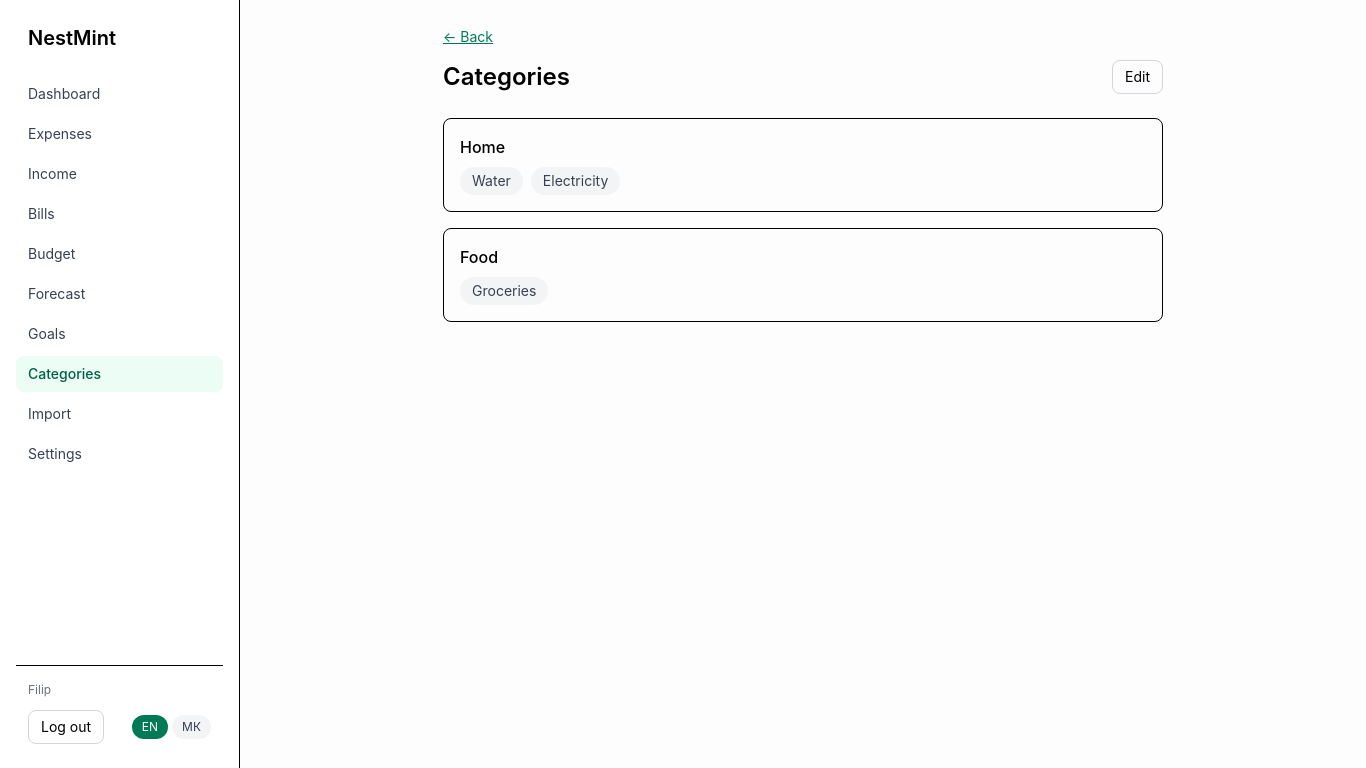
Test: editing categories › adds a group
Click the button "Edit" at [1138, 77], box [1112, 60, 1163, 94]
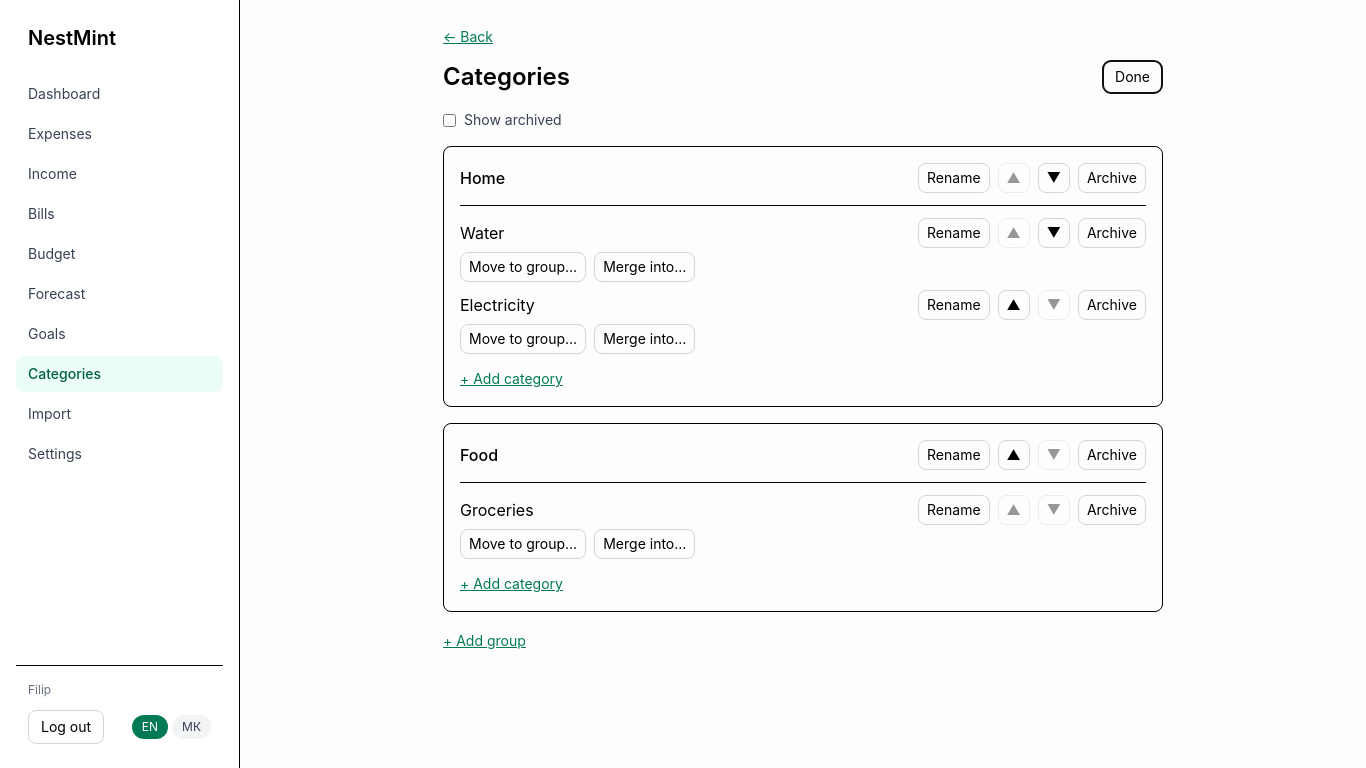
Click the button "+ Add group" at [484, 641], box [443, 631, 526, 651]
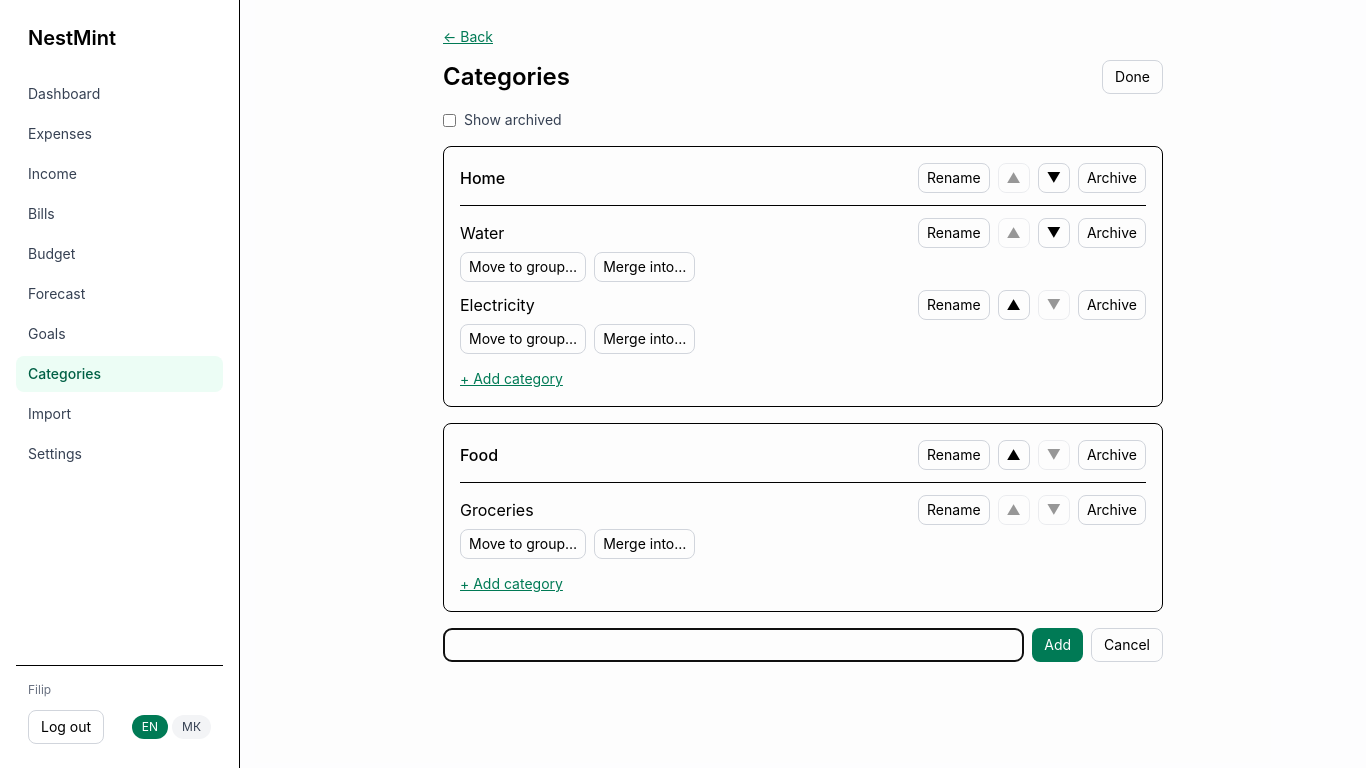
Type "  Gifts " into the field named "New group name" at [734, 645], box [443, 628, 1024, 662]
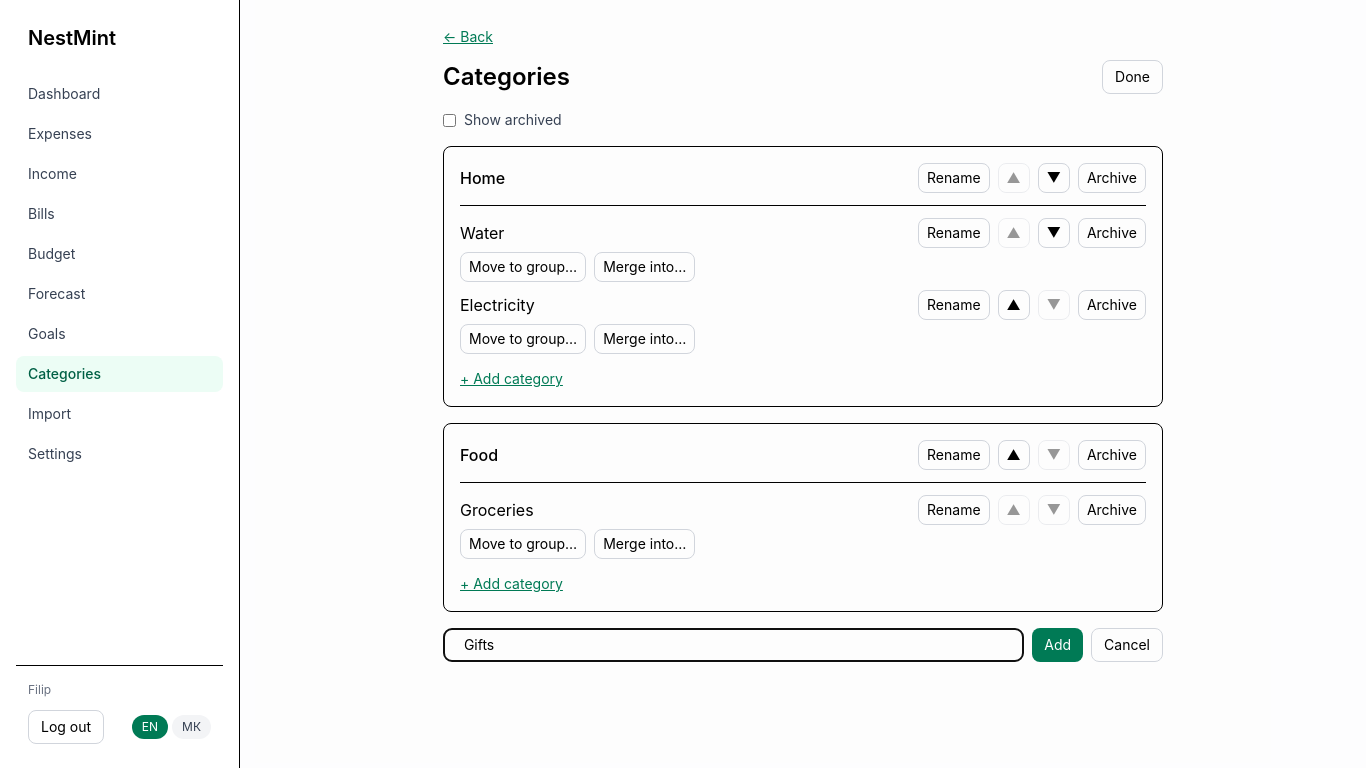
Click the button "Add" at [1058, 645], box [1032, 628, 1083, 662]
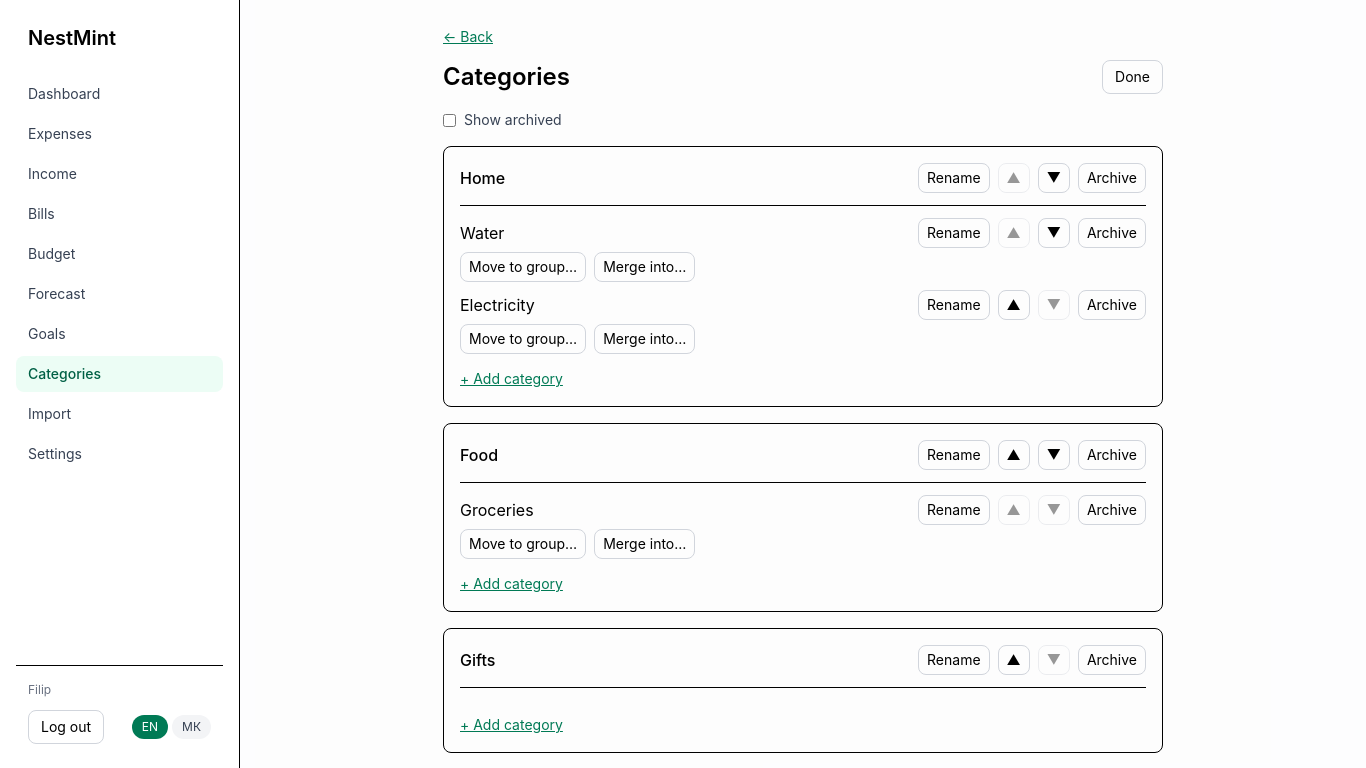
Check: the heading "Gifts" is shown, box [460, 648, 495, 672]
